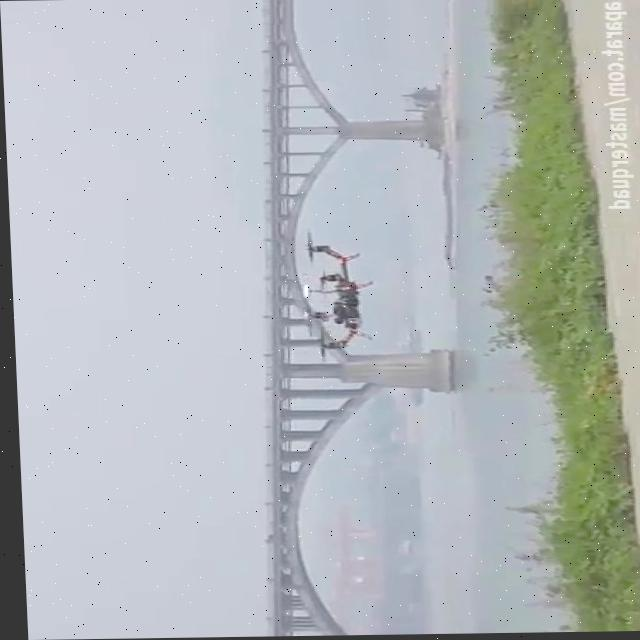drone: (290, 223, 372, 364)
